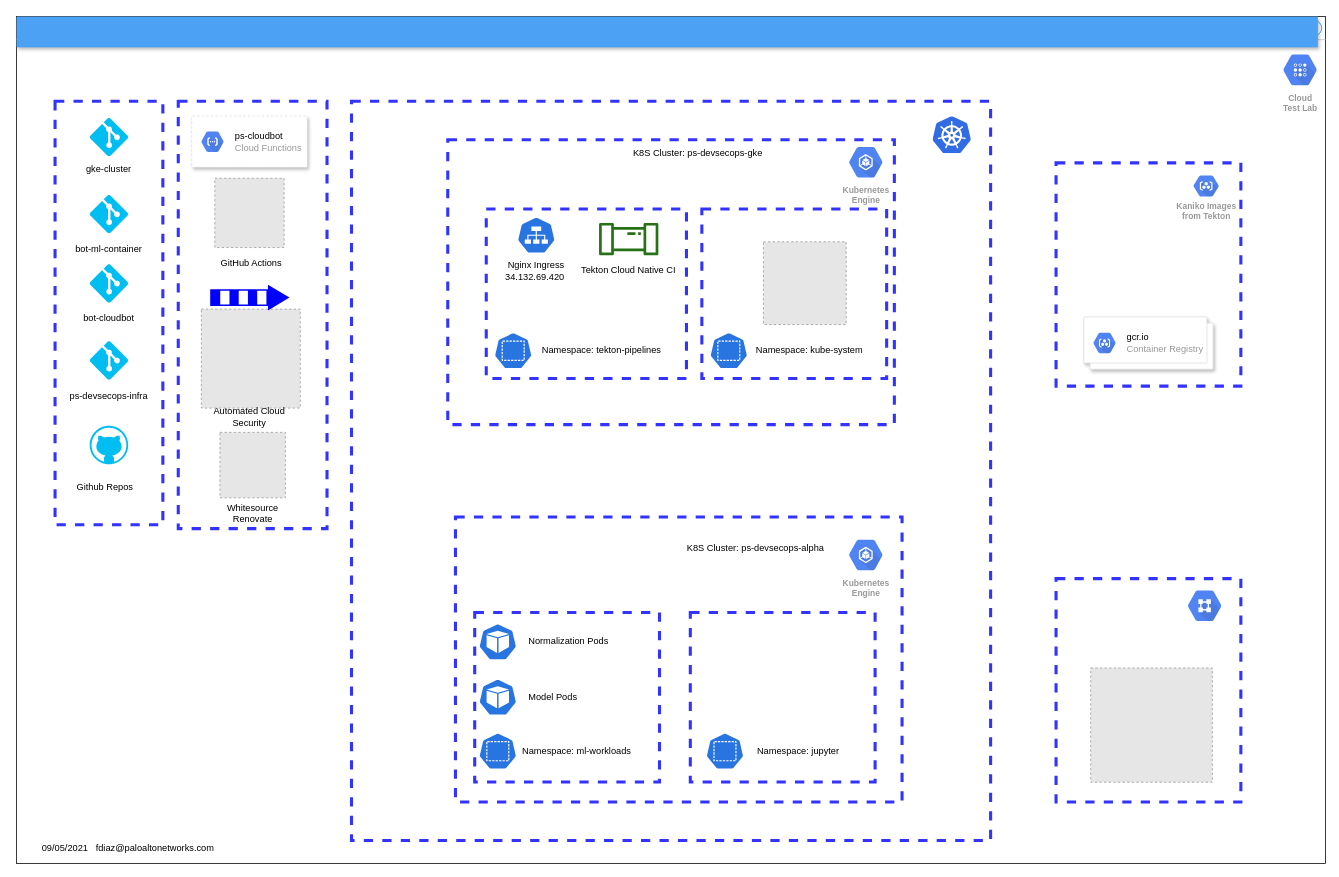
Image size: 1339x877. Some labels were removed from this diagram. Grey dashed boxes stand in for pictures. The shapes that lost their labels are listed below. From the top down, each one's centre as x and y in pixels, then its label:
At (667,32): "Architecture: High Level DIagram".
At (1204,605): "Virtual Private Cloud".
